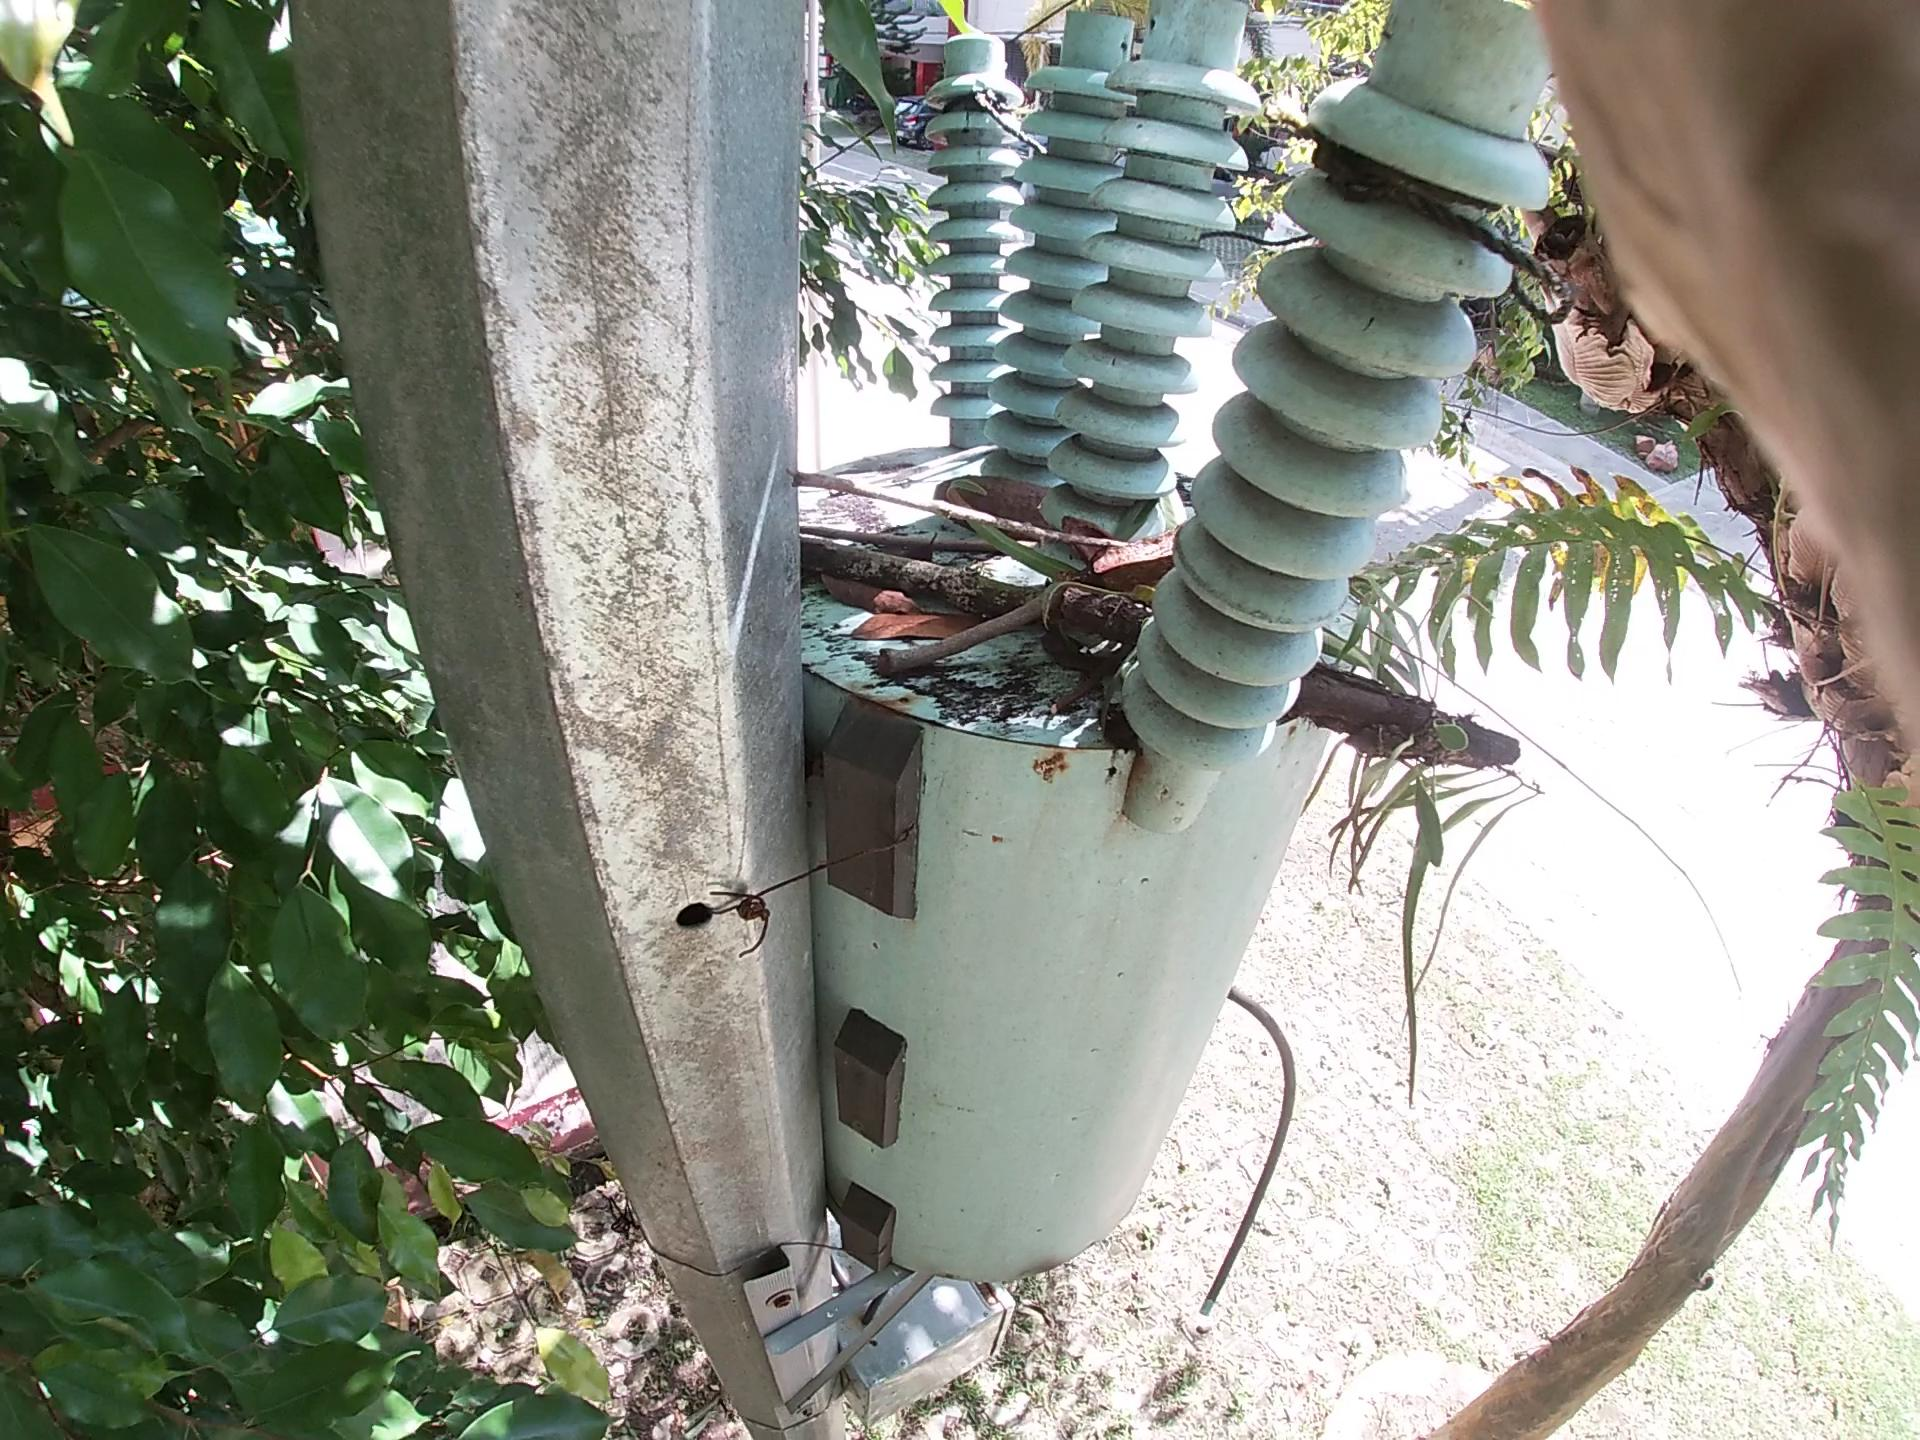branch with leaves: (750, 451, 1776, 930)
leaf: (839, 560, 963, 690)
mahogany fruit: (1061, 492, 1256, 594), (940, 442, 1110, 557)
tree branch: (779, 414, 1184, 607), (850, 396, 1037, 514), (900, 613, 1045, 693)
